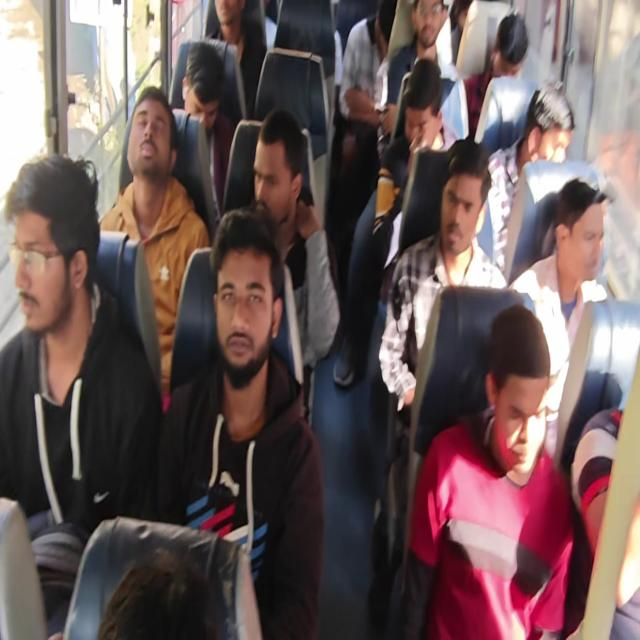person: (1, 1, 637, 638), (0, 151, 164, 636), (158, 205, 325, 638), (401, 303, 576, 638), (333, 57, 452, 389), (99, 85, 211, 411), (378, 136, 507, 413), (508, 176, 610, 460), (250, 108, 340, 424), (477, 80, 575, 279), (326, 1, 398, 240), (570, 406, 639, 639), (96, 546, 232, 639), (385, 0, 468, 146), (464, 12, 536, 147), (182, 42, 235, 217), (204, 0, 268, 120)
